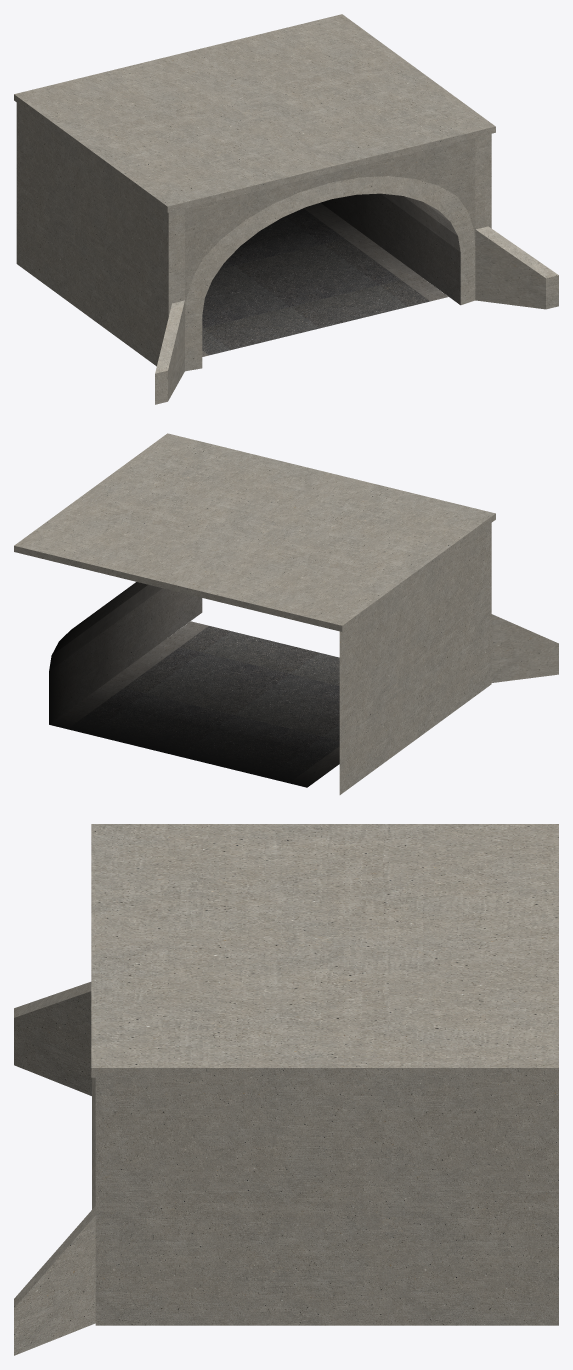
Rendered from road-tunnel.glb.
3 views of the same model, one above another, from view 1: azimuth 30°, elevation 25°; view 2: azimuth 150°, elevation 25°; view 3: azimuth 270°, elevation 25° (orthographic). The views are drawn at different scales.
Visible parts, largest first — view 1: road-tunnel; view 2: road-tunnel; view 3: road-tunnel.
Boxes of the visible parts, box(x1,y1,x2,y2) form: road-tunnel: box(14, 14, 558, 404); road-tunnel: box(14, 433, 558, 794); road-tunnel: box(14, 824, 558, 1355).
Bounding box in the file's own units: 54.75 × 22.1 × 42.
4 materials, 4 textured.
